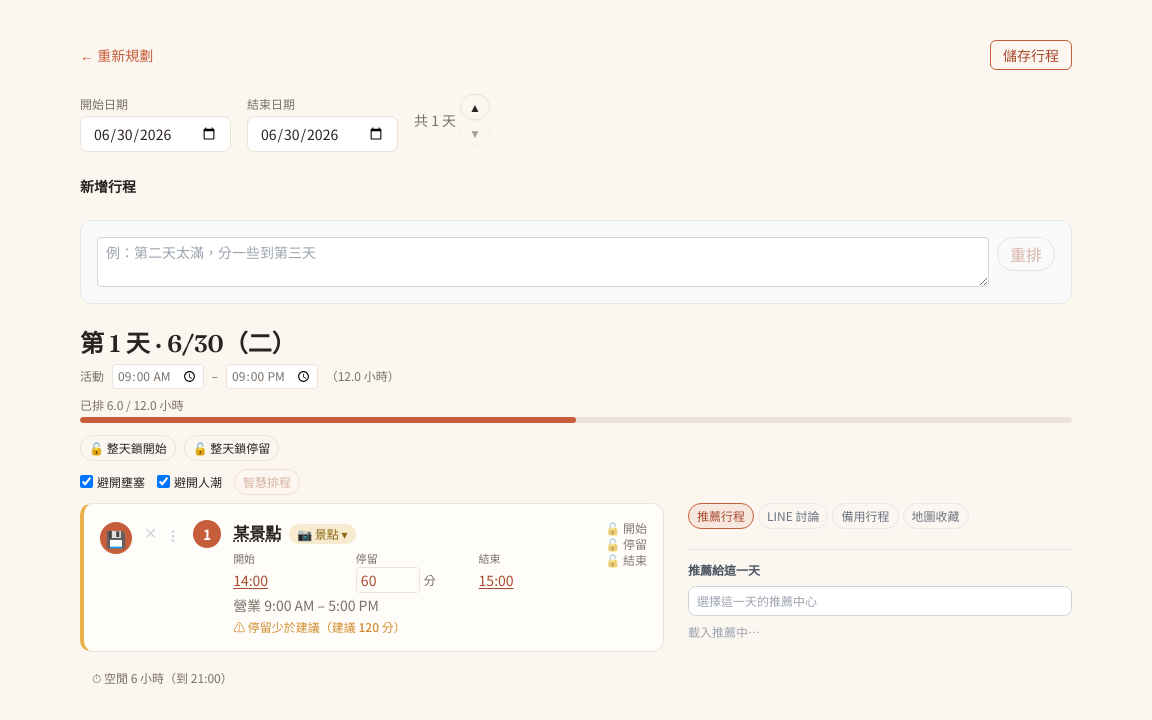
editing the trip start date re-derives opening-hours warnings for all days
expect the text "請確認營業時間" is not shown: met
// 改成週一（公休）→ recalc → 出現警告
Type "2026-06-29" into the date field with test id "trip-start-date" at (156, 134), box [80,116,231,152]
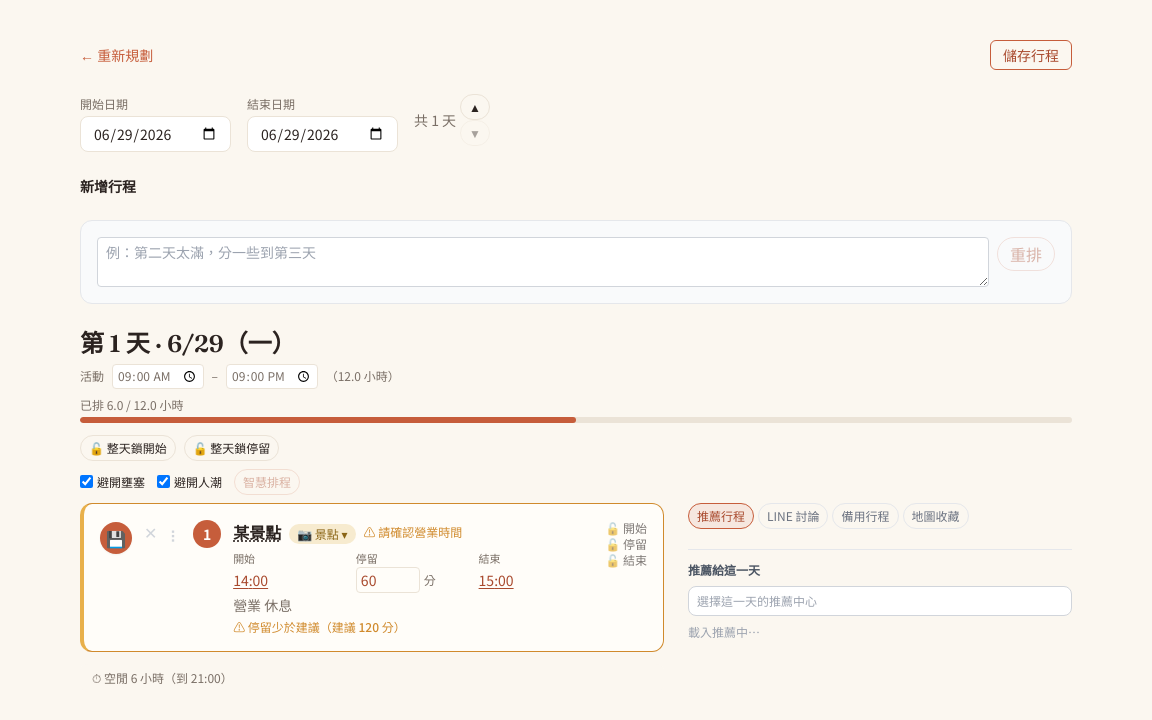
expect the text "⚠ 請確認營業時間" is shown: met, box [364,524,462,540]
